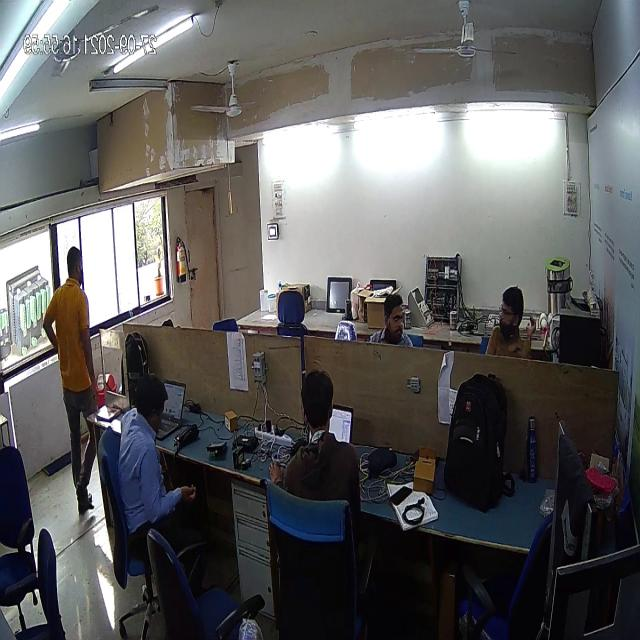adult: (110, 364, 194, 602), (36, 242, 104, 522)
